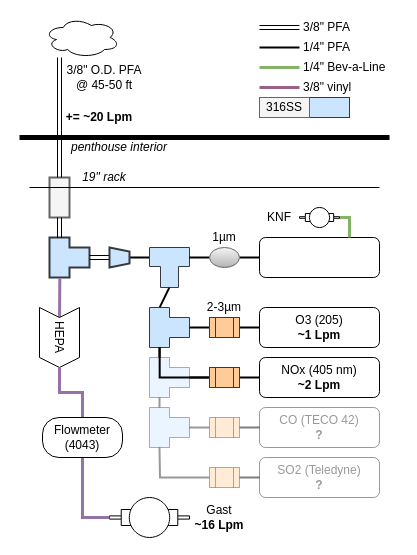
This 417x555 diagram has some shape labels left out. The shapes that lost their labels are listed below. From the top down, each one's centre as x and y in pixels, then its label:
[82,37]: sample
[329,107]: PFA
[319,257]: CO2/H2O (LI840A) <1 Lpm
